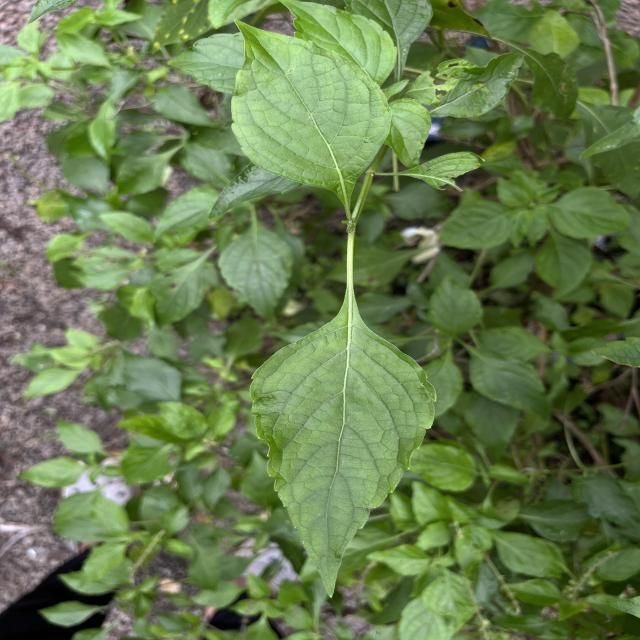Ocimum gratissimum: (247, 278, 440, 604), (226, 13, 396, 217), (274, 0, 402, 94)
